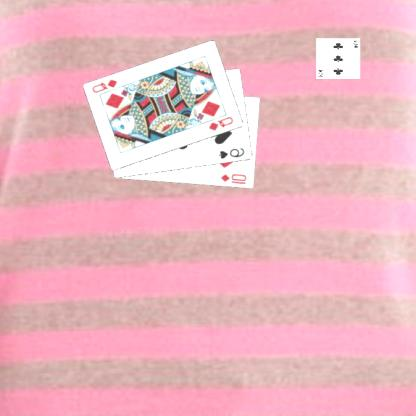10D: (220, 172, 250, 186)
6S: (218, 145, 247, 161)
QD: (91, 76, 121, 94), (208, 114, 236, 132)
